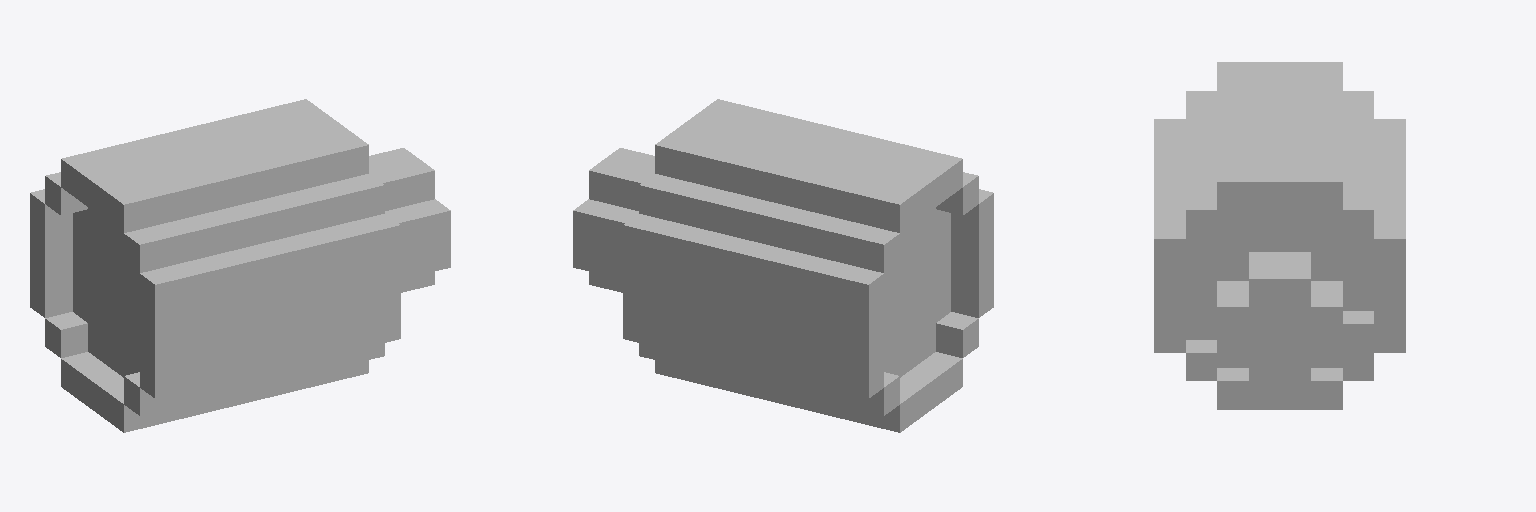
The model's file is pig meat done.obj.
The picture shows the model from 3 angles: view 1: azimuth 30°, elevation 25°; view 2: azimuth 150°, elevation 25°; view 3: azimuth 270°, elevation 25°; orthographic projection.
Parts seen in each view (by area): view 1: object 1; view 2: object 1; view 3: object 1.
Part boxes in pixels (x1,y1,x2,y2): object 1: (30,99,450,432); object 1: (573,99,993,432); object 1: (1154,62,1405,409).
Size of the model in its own units: 12 by 8 by 8.